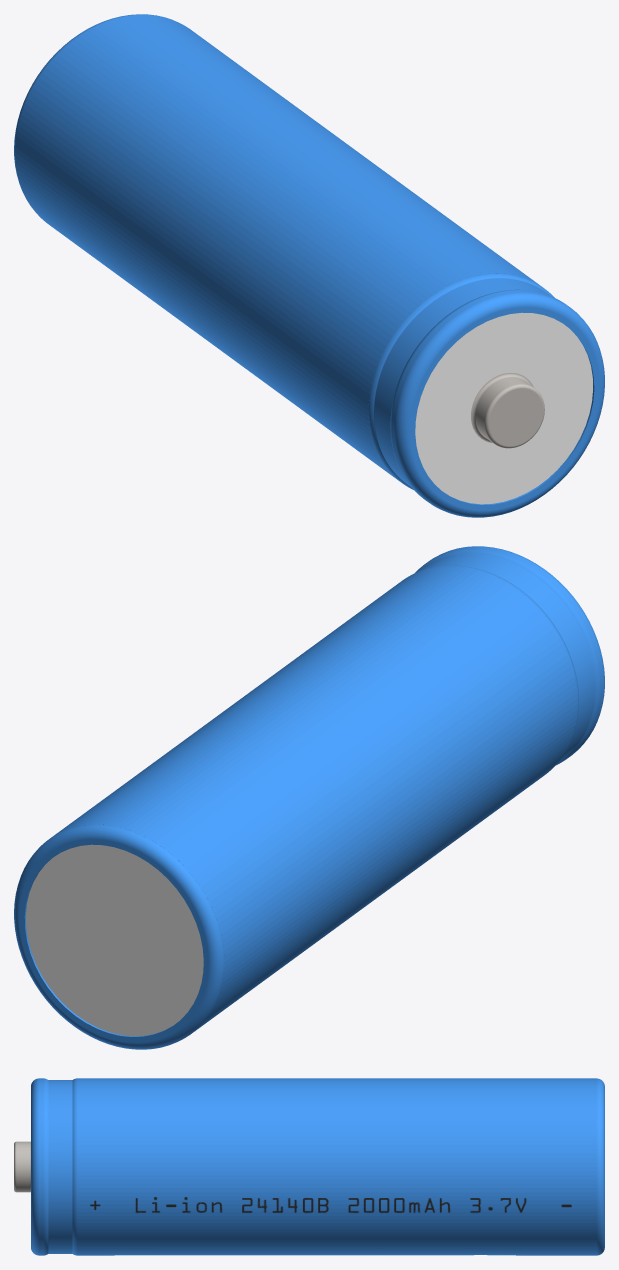
Rendered from defect_3.glb.
The picture shows the model from 3 angles, top to bottom: view 1: azimuth 30°, elevation 25°; view 2: azimuth 150°, elevation 25°; view 3: azimuth 270°, elevation 25°; orthographic projection. The views are drawn at different scales.
Parts seen in each view (by area): view 1: Cylinder, Cell_Top; view 2: Cylinder, Cell_bottom, Cell_Top; view 3: Cylinder, Cell_Top, Cell_bottom.
Part boxes in pixels (bbox=[...]): Cylinder: bbox=[15, 15, 550, 480]; Cell_Top: bbox=[368, 273, 604, 517]; Cylinder: bbox=[41, 566, 577, 1031]; Cell_bottom: bbox=[14, 824, 224, 1049]; Cell_Top: bbox=[415, 546, 604, 765]; Cylinder: bbox=[77, 1078, 596, 1255]; Cell_Top: bbox=[14, 1078, 77, 1255]; Cell_bottom: bbox=[596, 1078, 604, 1255].
Bounding box in the file's own units: 0.021 × 0.021 × 0.07.
Materials: 10 (1 with a texture image).
